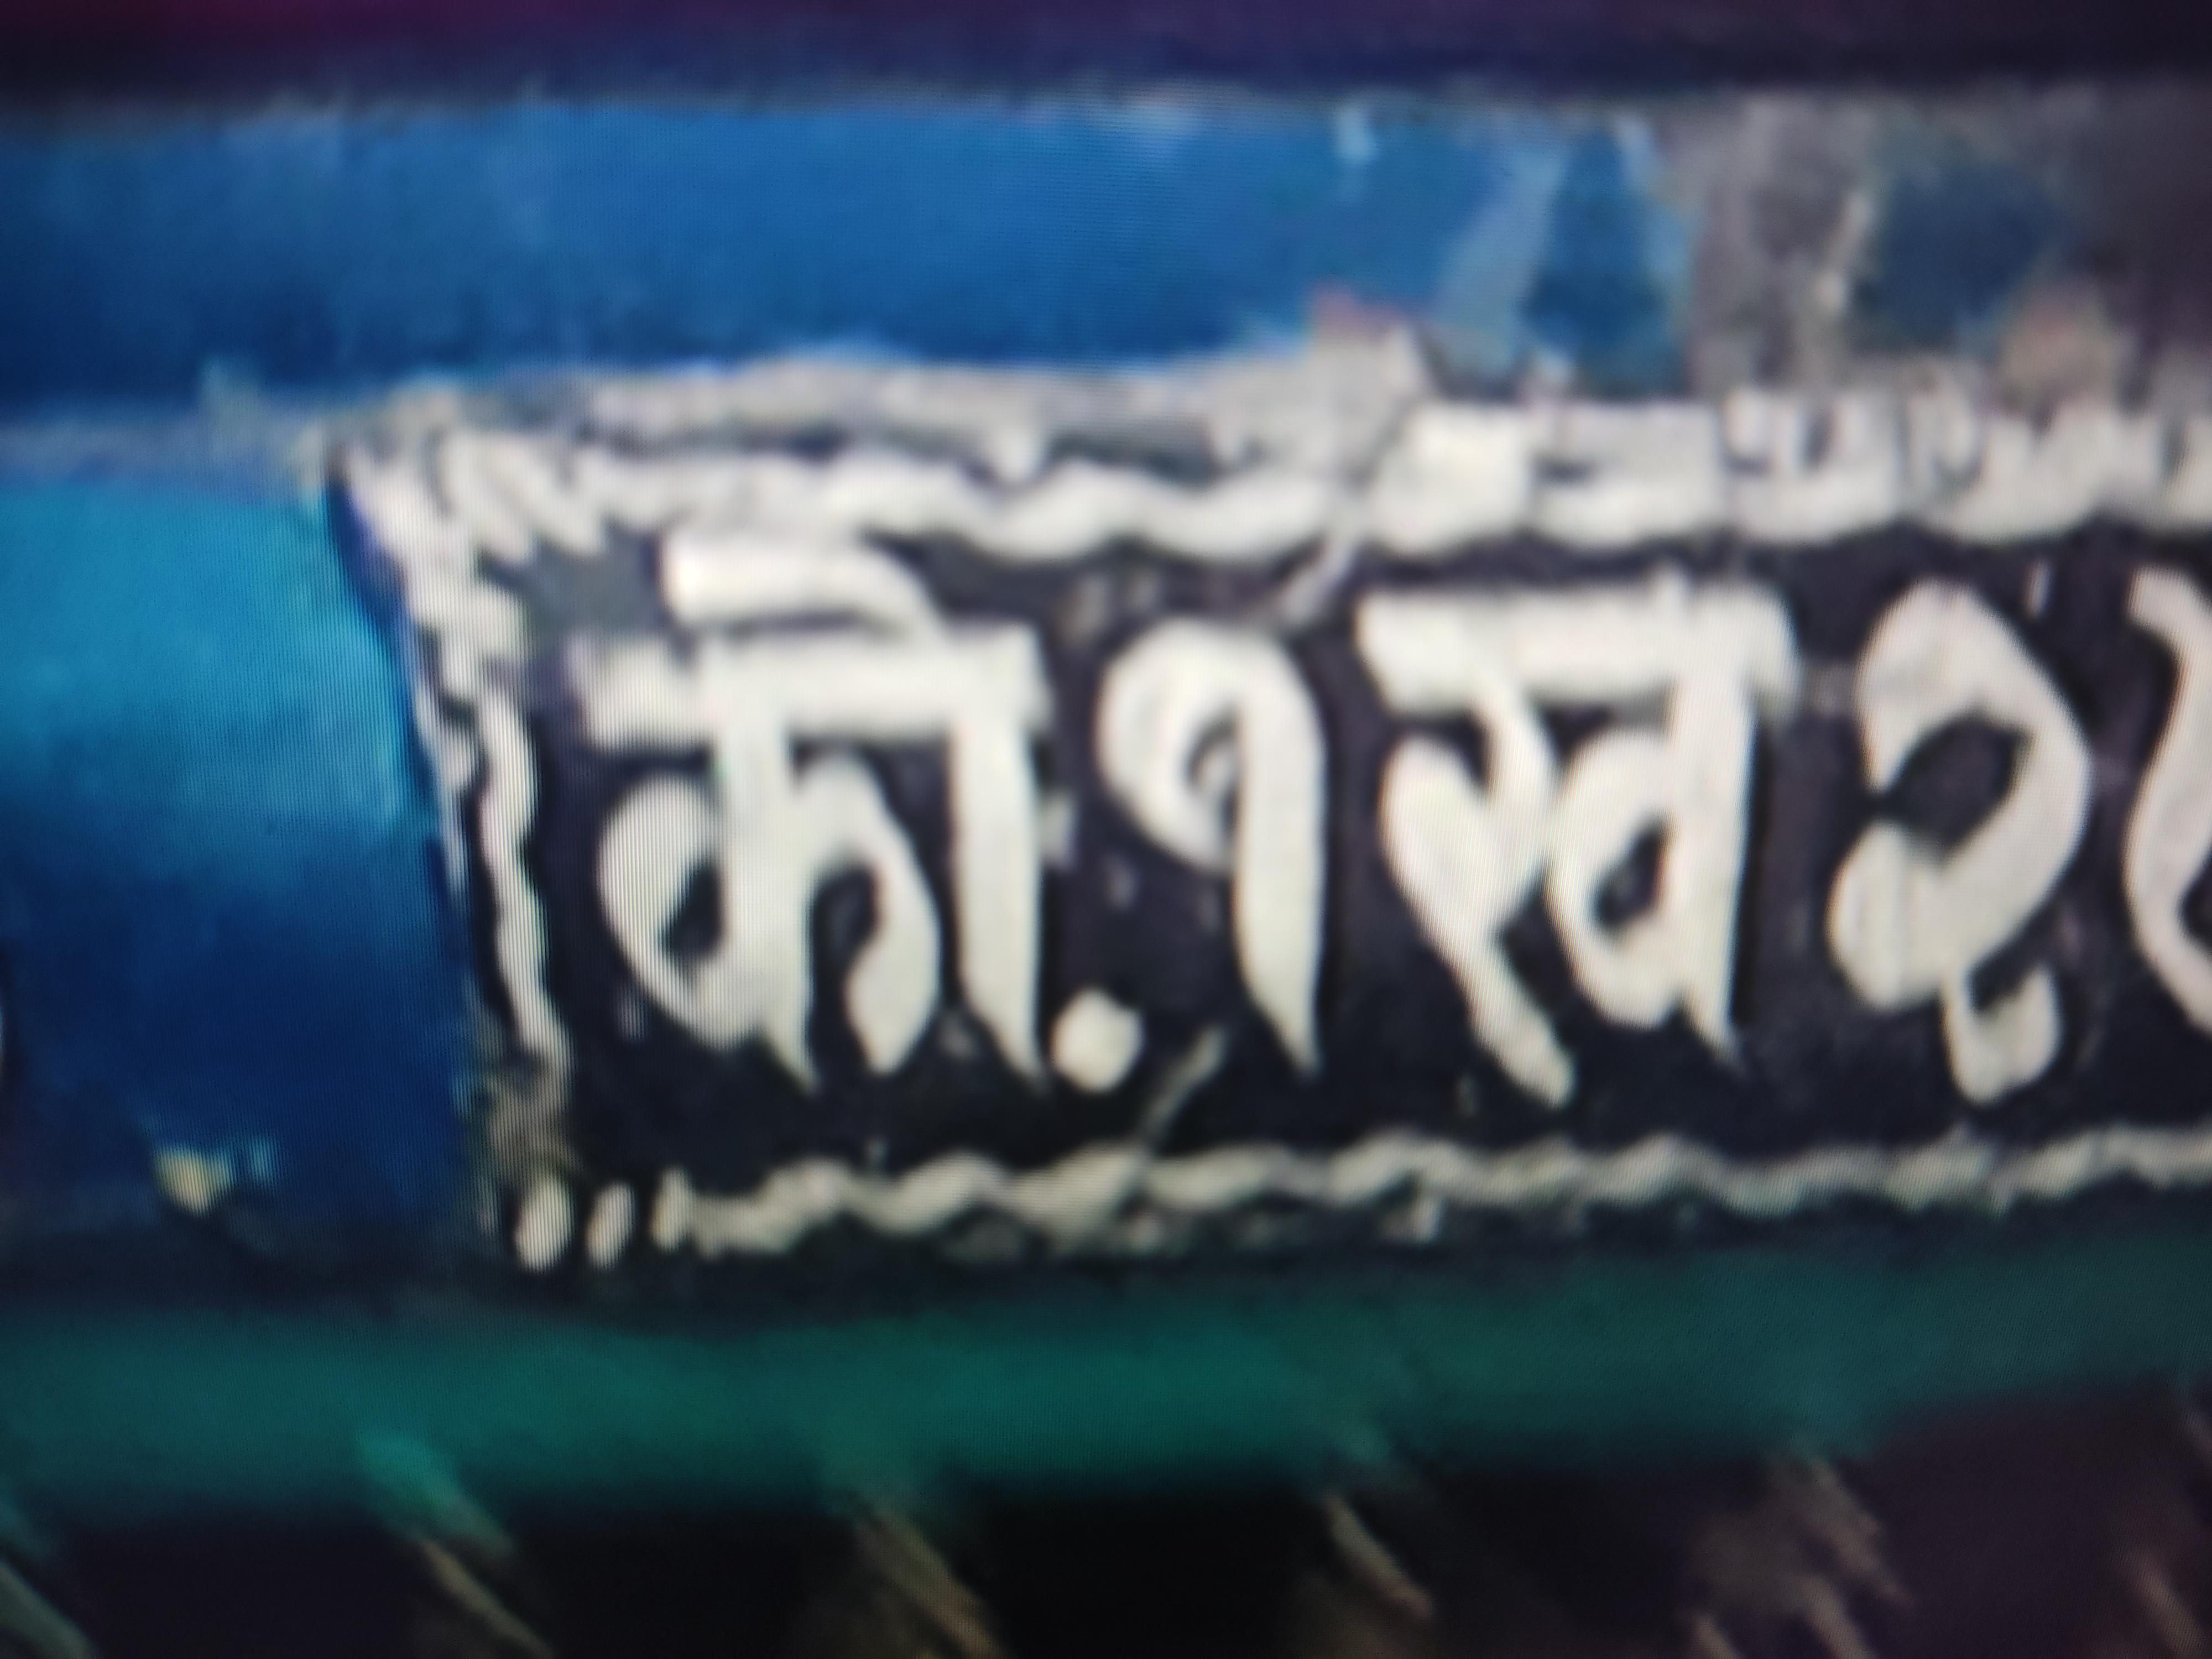1: (1103, 615, 1376, 1124)
2: (1814, 569, 2147, 1130)
9: (2087, 549, 2212, 1102)
kha: (1342, 541, 1824, 1124)
ko: (451, 526, 1060, 1149)
